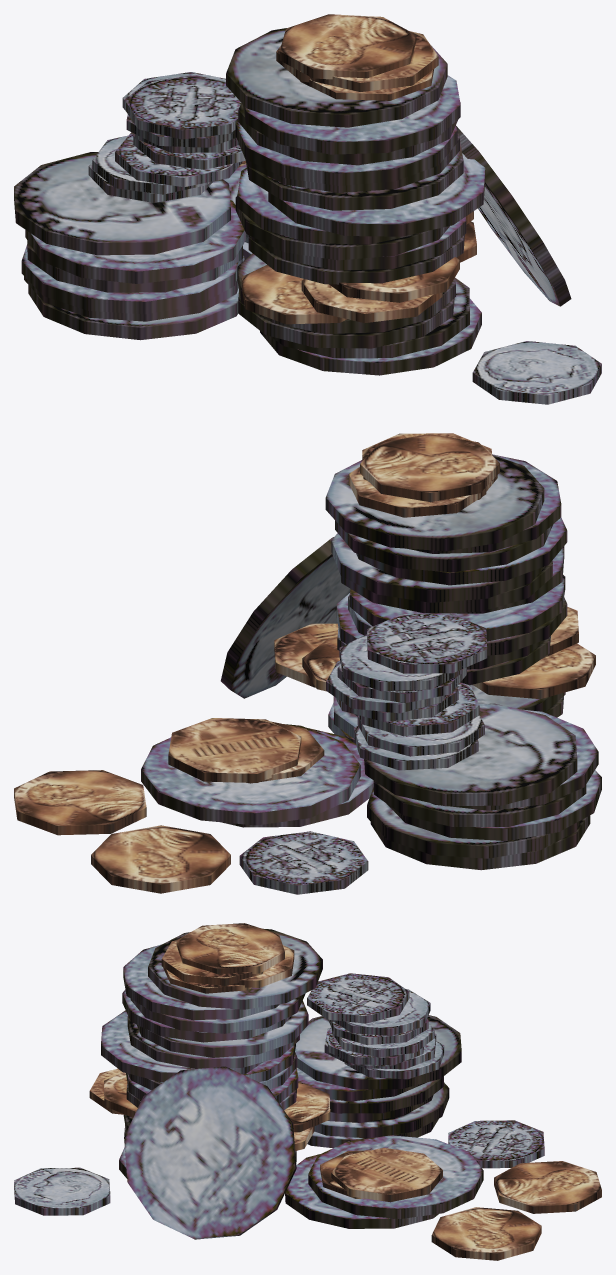
File: bigCoinPile.fbx
3 views of the same model, one above another, from view 1: azimuth 30°, elevation 25°; view 2: azimuth 150°, elevation 25°; view 3: azimuth 270°, elevation 25° (orthographic). The views are drawn at different scales.
Parts seen in each view (by area): view 1: Cylinder.099; view 2: Cylinder.099; view 3: Cylinder.099.
Boxes of the visible parts, <box> form: Cylinder.099: <box>14,14,601,404</box>; Cylinder.099: <box>14,433,601,894</box>; Cylinder.099: <box>14,923,601,1260</box>.
Size of the model in its own units: 40.17 by 22.43 by 53.18.
1 material, 1 textured.
